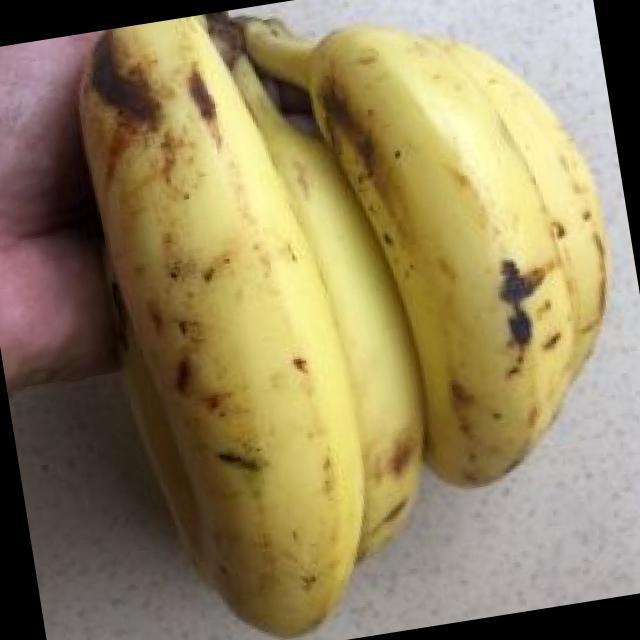banana: (98, 74, 560, 591)
